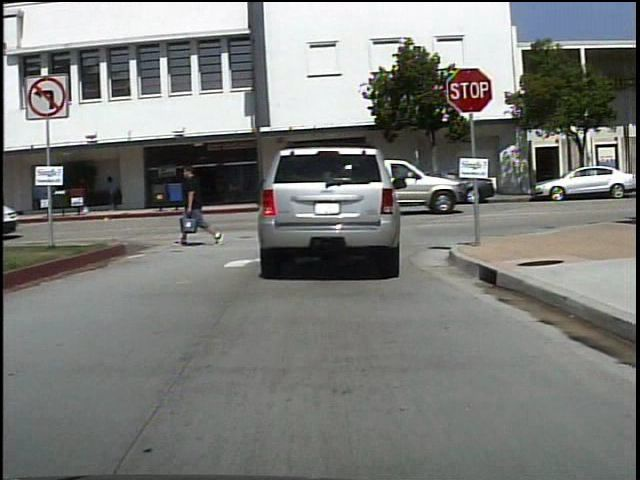person: (174, 159, 218, 248), (76, 171, 100, 216), (101, 172, 123, 213)
